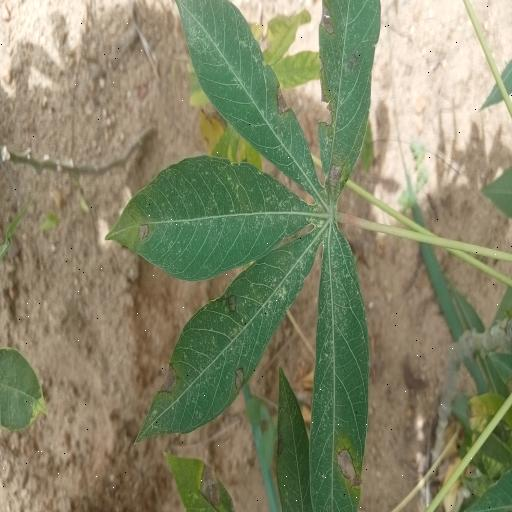Cassava_Brown_Leaf_Spot: (101, 1, 382, 512)
